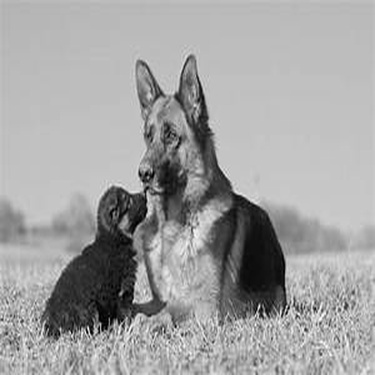dog: (111, 48, 294, 338), (40, 171, 161, 345)
